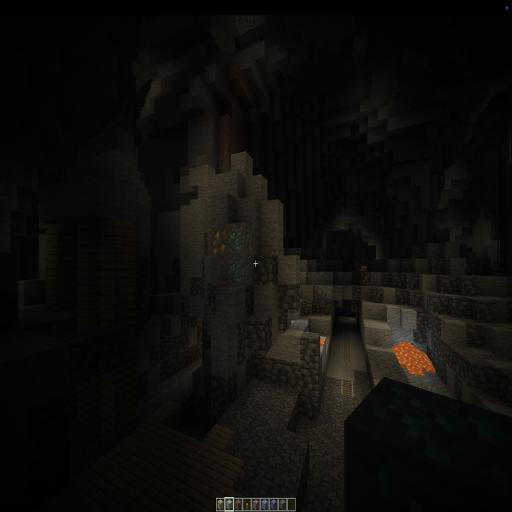diamond ore: (228, 225, 255, 286)
gold ore: (210, 222, 230, 260)
